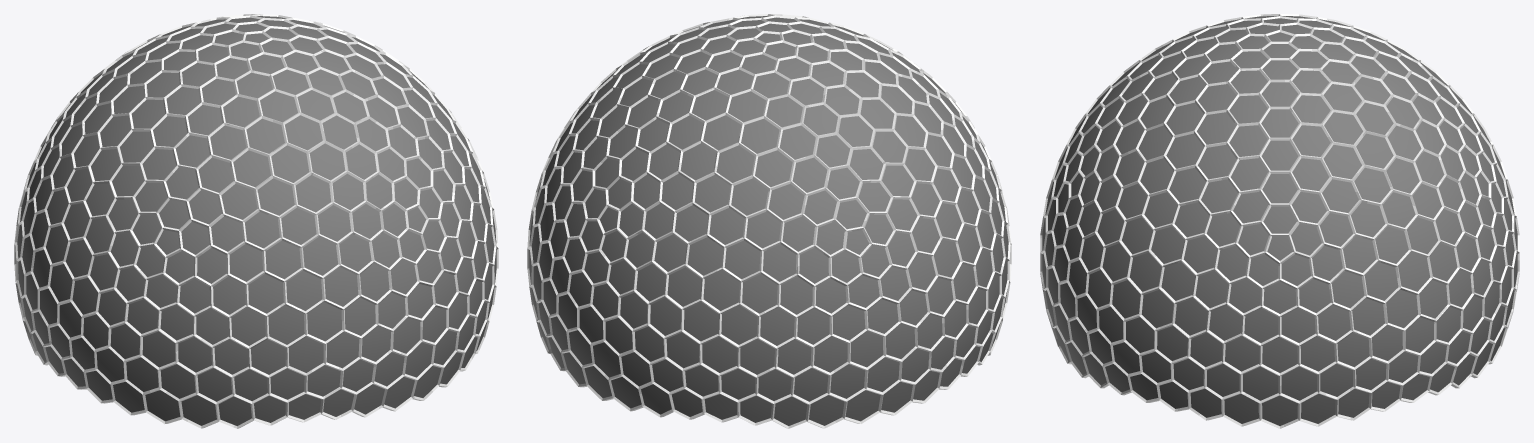
Rendered from mdl_duc_sci_outerdome.glb.
3 views of the same model, side by side, from view 1: azimuth 30°, elevation 25°; view 2: azimuth 150°, elevation 25°; view 3: azimuth 270°, elevation 25° (orthographic).
Parts seen in each view (by area): view 1: Inside, Outer Wireframe; view 2: Inside, Outer Wireframe; view 3: Inside, Outer Wireframe.
Boxes of the visible parts, <box> form: Inside: <box>17,16,496,425</box>; Outer Wireframe: <box>14,14,498,428</box>; Inside: <box>529,16,1008,425</box>; Outer Wireframe: <box>527,14,1011,428</box>; Inside: <box>1042,16,1517,425</box>; Outer Wireframe: <box>1040,14,1519,428</box>.
Bounding box in the file's own units: 10.5 × 7.21 × 10.5.
Materials: 2 (2 with a texture image).
